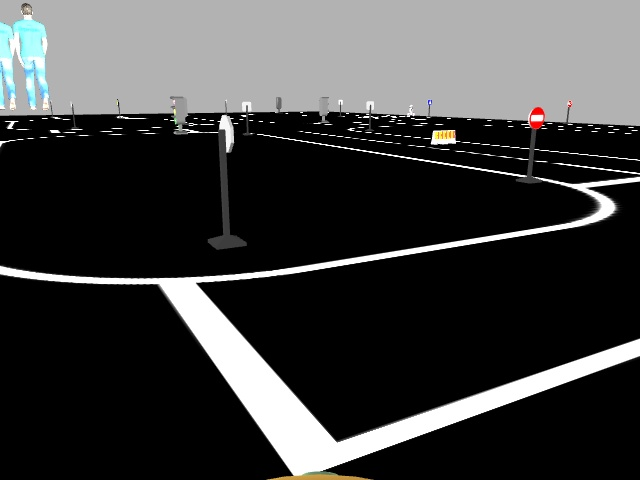NoEntry: (527, 105, 544, 128)
